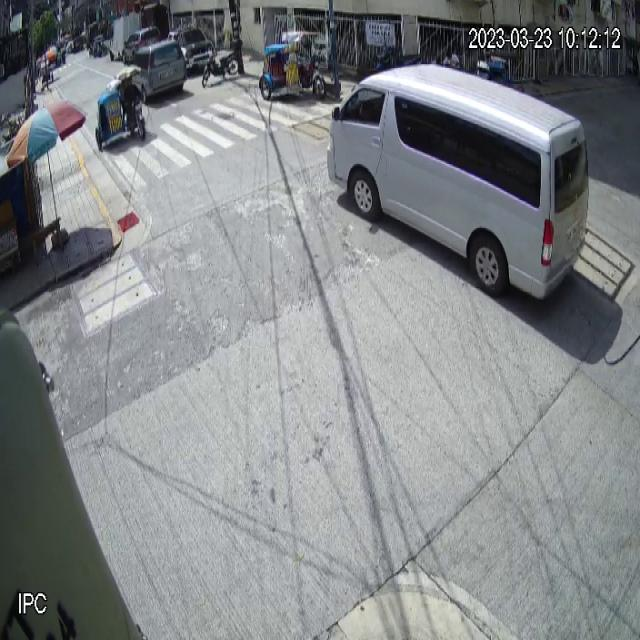Tricycle: (258, 30, 326, 100), (94, 65, 146, 152)
Van: (327, 59, 591, 304)
